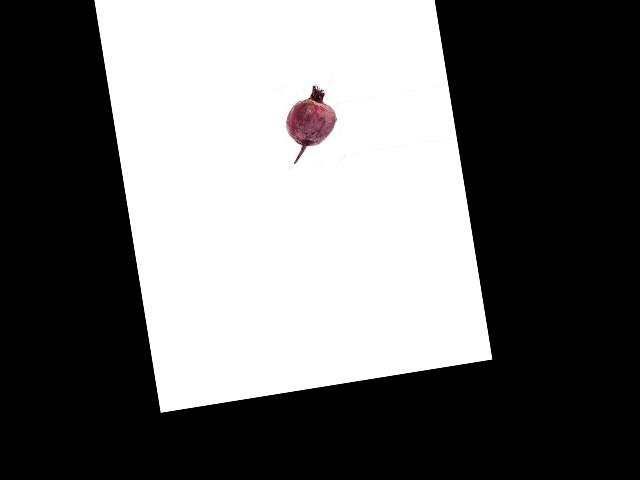beet: (280, 82, 341, 163)
